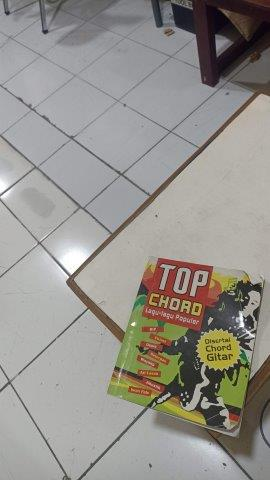kertas: (107, 257, 262, 441)
